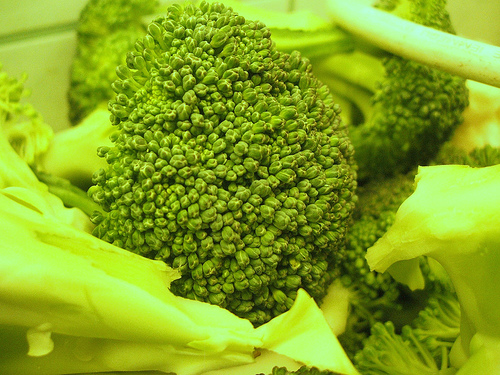broccoli: (72, 2, 361, 322), (315, 0, 466, 169)
